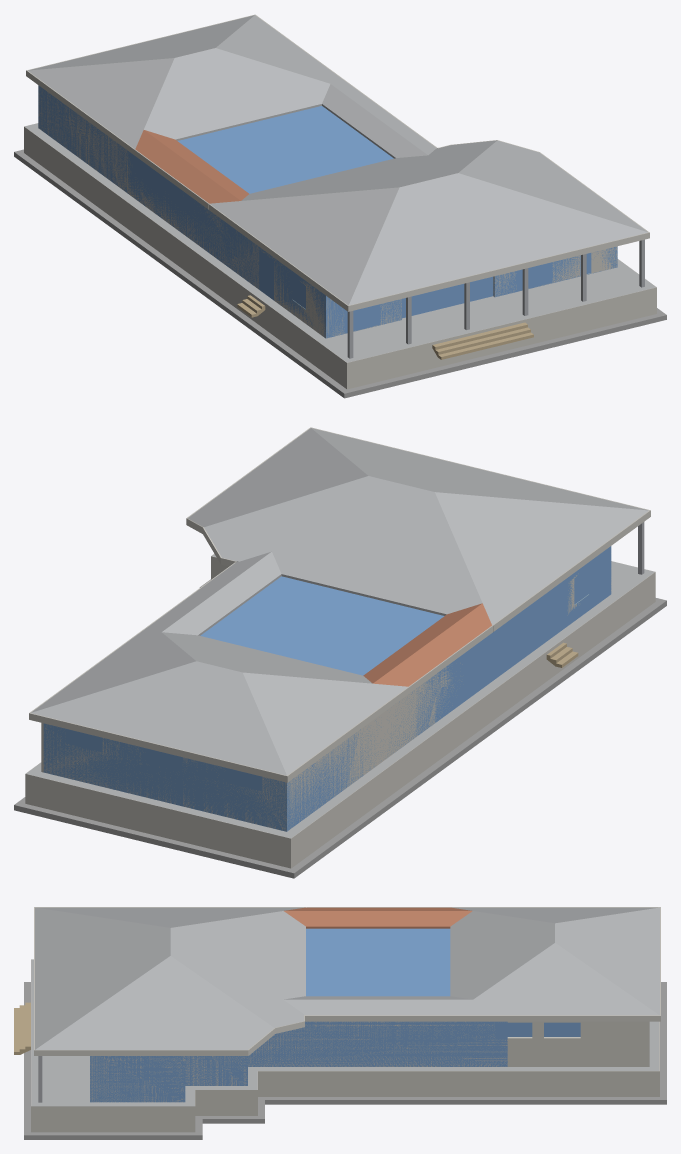
Rendered from villa-goyrans.glb.
3 renders of one model, top to bottom at view 1: azimuth 30°, elevation 25°; view 2: azimuth 150°, elevation 25°; view 3: azimuth 270°, elevation 25°, orthographic. The views are drawn at different scales.
Parts seen in each view (by area): view 1: 1BvRzg3AP7Vg144K4jvNnj, 2C0W82iT1Avhie$vxumA4Q, 0tJMa_hBf0LBNI7X$wQikT, 2C0W82iT1Avhie$vdumA4Q, 2C0W82iT1Avhie$vlumA4Q, 1BvRzg3AP7Vg144K4jvOnQ, 16HjQlMsbCBxocwRhnKlOj, 16HjQlMsbCBxocwRhnKl58, 2C0W82iT1Avhie$vJumA4Q, 2C0W82iT1Avhie$v$umA4Q, 1xq70jFD10MAD0MiRt2F28, 2C0W82iT1Avhie$vZumA4Q (+12 smaller); view 2: 1BvRzg3AP7Vg144K4jvNnj, 2C0W82iT1Avhie$vZumA4Q, 2C0W82iT1Avhie$vNumA4Q, 2C0W82iT1Avhie$vdumA4Q, 1BvRzg3AP7Vg144K4jvOnQ, 16HjQlMsbCBxocwRhnKlOj, 2C0W82iT1Avhie$vJumA4Q, 16HjQlMsbCBxocwRhnKl9o, 2C0W82iT1Avhie$vxumA4Q, 2C0W82iT1Avhie$v$umA4Q, 1xq70jFD10MAD0MiRt2F28, 0tJMa_hBf0LBNI7X$wQikT (+9 smaller); view 3: 1BvRzg3AP7Vg144K4jvNnj, 2C0W82iT1Avhie$v$umA4Q, 2C0W82iT1Avhie$vxumA4Q, 2C0W82iT1Avhie$vZumA4Q, 2C0W82iT1Avhie$vRumA4Q, 16HjQlMsbCBxocwRhnKlCV, 0tJMa_hBf0LBNI5XxwQiEC, 2C0W82iT1Avhie$vNumA4Q, 0tJMa_hBf0LBNI7X$wQikT, 2C0W82iT1Avhie$vlumA4Q, 1BvRzg3AP7Vg144K4jvOnQ, 1xq70jFD10MAD0MiRt2F28 (+15 smaller).
Boxes of the visible parts, bbox=[...] form: 1BvRzg3AP7Vg144K4jvNnj: bbox=[38, 85, 617, 338]; 2C0W82iT1Avhie$vxumA4Q: bbox=[349, 173, 647, 305]; 0tJMa_hBf0LBNI7X$wQikT: bbox=[25, 123, 655, 362]; 2C0W82iT1Avhie$vdumA4Q: bbox=[210, 187, 399, 305]; 2C0W82iT1Avhie$vlumA4Q: bbox=[144, 48, 330, 140]; 1BvRzg3AP7Vg144K4jvOnQ: bbox=[184, 106, 393, 193]; 16HjQlMsbCBxocwRhnKlOj: bbox=[24, 126, 346, 388]; 16HjQlMsbCBxocwRhnKl58: bbox=[347, 288, 652, 389]; 2C0W82iT1Avhie$vJumA4Q: bbox=[28, 58, 174, 148]; 2C0W82iT1Avhie$v$umA4Q: bbox=[459, 140, 647, 231]; 1xq70jFD10MAD0MiRt2F28: bbox=[26, 14, 649, 311]; 2C0W82iT1Avhie$vZumA4Q: bbox=[241, 140, 496, 200]; 1BvRzg3AP7Vg144K4jvNnj: bbox=[43, 546, 611, 831]; 2C0W82iT1Avhie$vZumA4Q: bbox=[204, 476, 482, 615]; 2C0W82iT1Avhie$vNumA4Q: bbox=[31, 661, 286, 775]; 2C0W82iT1Avhie$vdumA4Q: bbox=[435, 492, 648, 625]; 1BvRzg3AP7Vg144K4jvOnQ: bbox=[200, 580, 443, 675]; 16HjQlMsbCBxocwRhnKlOj: bbox=[291, 572, 655, 868]; 2C0W82iT1Avhie$vJumA4Q: bbox=[243, 672, 407, 775]; 16HjQlMsbCBxocwRhnKl9o: bbox=[25, 773, 290, 868]; 2C0W82iT1Avhie$vxumA4Q: bbox=[311, 428, 647, 510]; 2C0W82iT1Avhie$v$umA4Q: bbox=[188, 428, 367, 526]; 1xq70jFD10MAD0MiRt2F28: bbox=[29, 427, 650, 782]; 0tJMa_hBf0LBNI7X$wQikT: bbox=[26, 554, 654, 838]; 1BvRzg3AP7Vg144K4jvNnj: bbox=[90, 928, 580, 1102]; 2C0W82iT1Avhie$v$umA4Q: bbox=[35, 956, 273, 1049]; 2C0W82iT1Avhie$vxumA4Q: bbox=[35, 907, 170, 1049]; 2C0W82iT1Avhie$vZumA4Q: bbox=[170, 911, 305, 1027]; 2C0W82iT1Avhie$vRumA4Q: bbox=[283, 943, 658, 1015]; 16HjQlMsbCBxocwRhnKlCV: bbox=[258, 1071, 659, 1096]; 0tJMa_hBf0LBNI5XxwQiEC: bbox=[248, 1021, 645, 1066]; 2C0W82iT1Avhie$vNumA4Q: bbox=[555, 907, 659, 1015]; 0tJMa_hBf0LBNI7X$wQikT: bbox=[31, 959, 659, 1106]; 2C0W82iT1Avhie$vlumA4Q: bbox=[450, 911, 554, 999]; 1BvRzg3AP7Vg144K4jvOnQ: bbox=[306, 928, 450, 996]; 1xq70jFD10MAD0MiRt2F28: bbox=[34, 907, 660, 1055].
Bounding box in the file's own units: 18.21 × 6.55 × 32.11.
